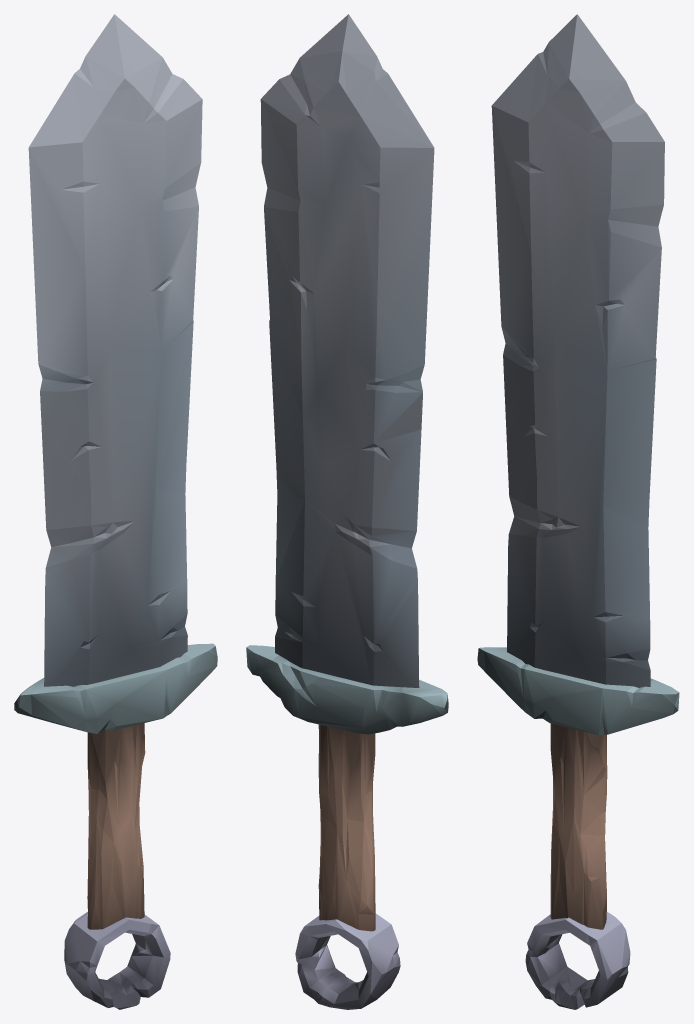
Rendered from basic_sword(short).fbx.
The picture shows the model from 3 angles, left to right: view 1: azimuth 30°, elevation 25°; view 2: azimuth 150°, elevation 25°; view 3: azimuth 330°, elevation 25°; orthographic projection.
Visible parts, largest first — view 1: basic_sword-short_mesh; view 2: basic_sword-short_mesh; view 3: basic_sword-short_mesh.
Boxes of the visible parts, x1,y1,x2,y2 form: basic_sword-short_mesh: [14, 14, 217, 1009]; basic_sword-short_mesh: [246, 14, 448, 1009]; basic_sword-short_mesh: [477, 14, 679, 1009].
Size of the model in its own units: 0.2858 by 1.36 by 0.0685.
